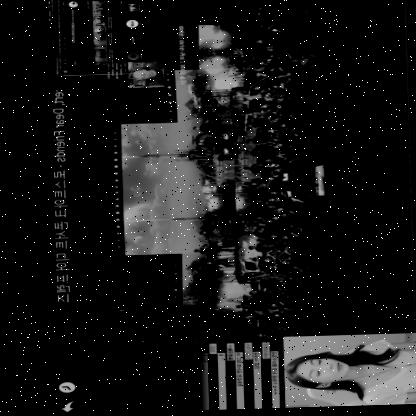streamer: (282, 340, 416, 410)
